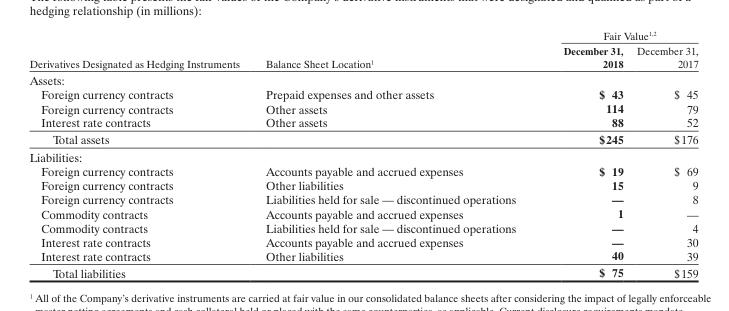table: (28, 28, 697, 279)
table column: (252, 28, 538, 279), (28, 28, 252, 279), (538, 28, 629, 279), (629, 28, 697, 279)
table column header: (28, 28, 697, 71)
table projected row header: (28, 71, 697, 87), (28, 147, 697, 163)
table row: (28, 42, 697, 71), (28, 130, 697, 147), (28, 71, 697, 87), (28, 147, 697, 163), (28, 248, 697, 264), (28, 115, 697, 130), (28, 177, 697, 192), (28, 264, 697, 279), (28, 28, 697, 42), (28, 87, 697, 101), (28, 101, 697, 115), (28, 163, 697, 177), (28, 192, 697, 206), (28, 206, 697, 220), (28, 220, 697, 234), (28, 234, 697, 248)
table spanning cell: (252, 28, 538, 71), (28, 28, 252, 71), (538, 28, 697, 42)
